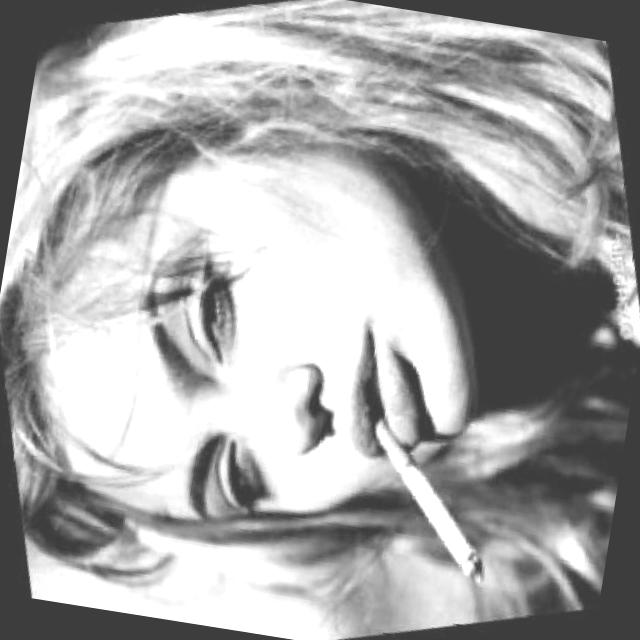cigarette: (345, 392, 516, 610)
